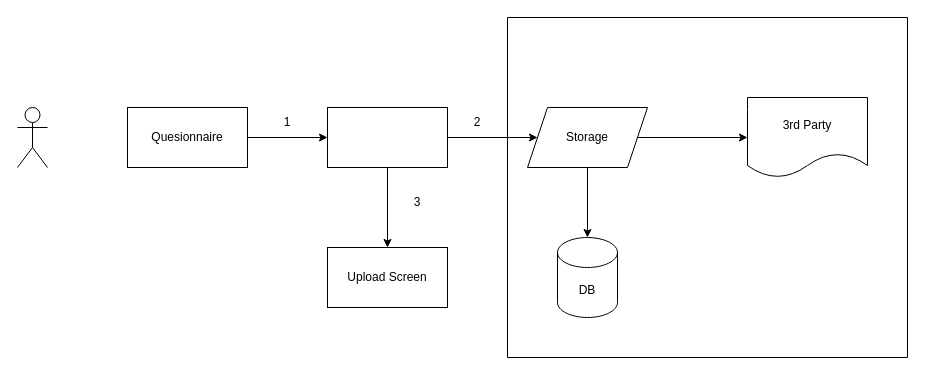
The diagram is 925 pixels wide and 375 high, and some of its shapes have lost their labels. The shapes that lost their labels are listed below. From the top down, each one's box as (x1, y1, x2, y2) in pixels, then its label:
(16, 106, 48, 168): Actor
(326, 106, 448, 168): Checkout
